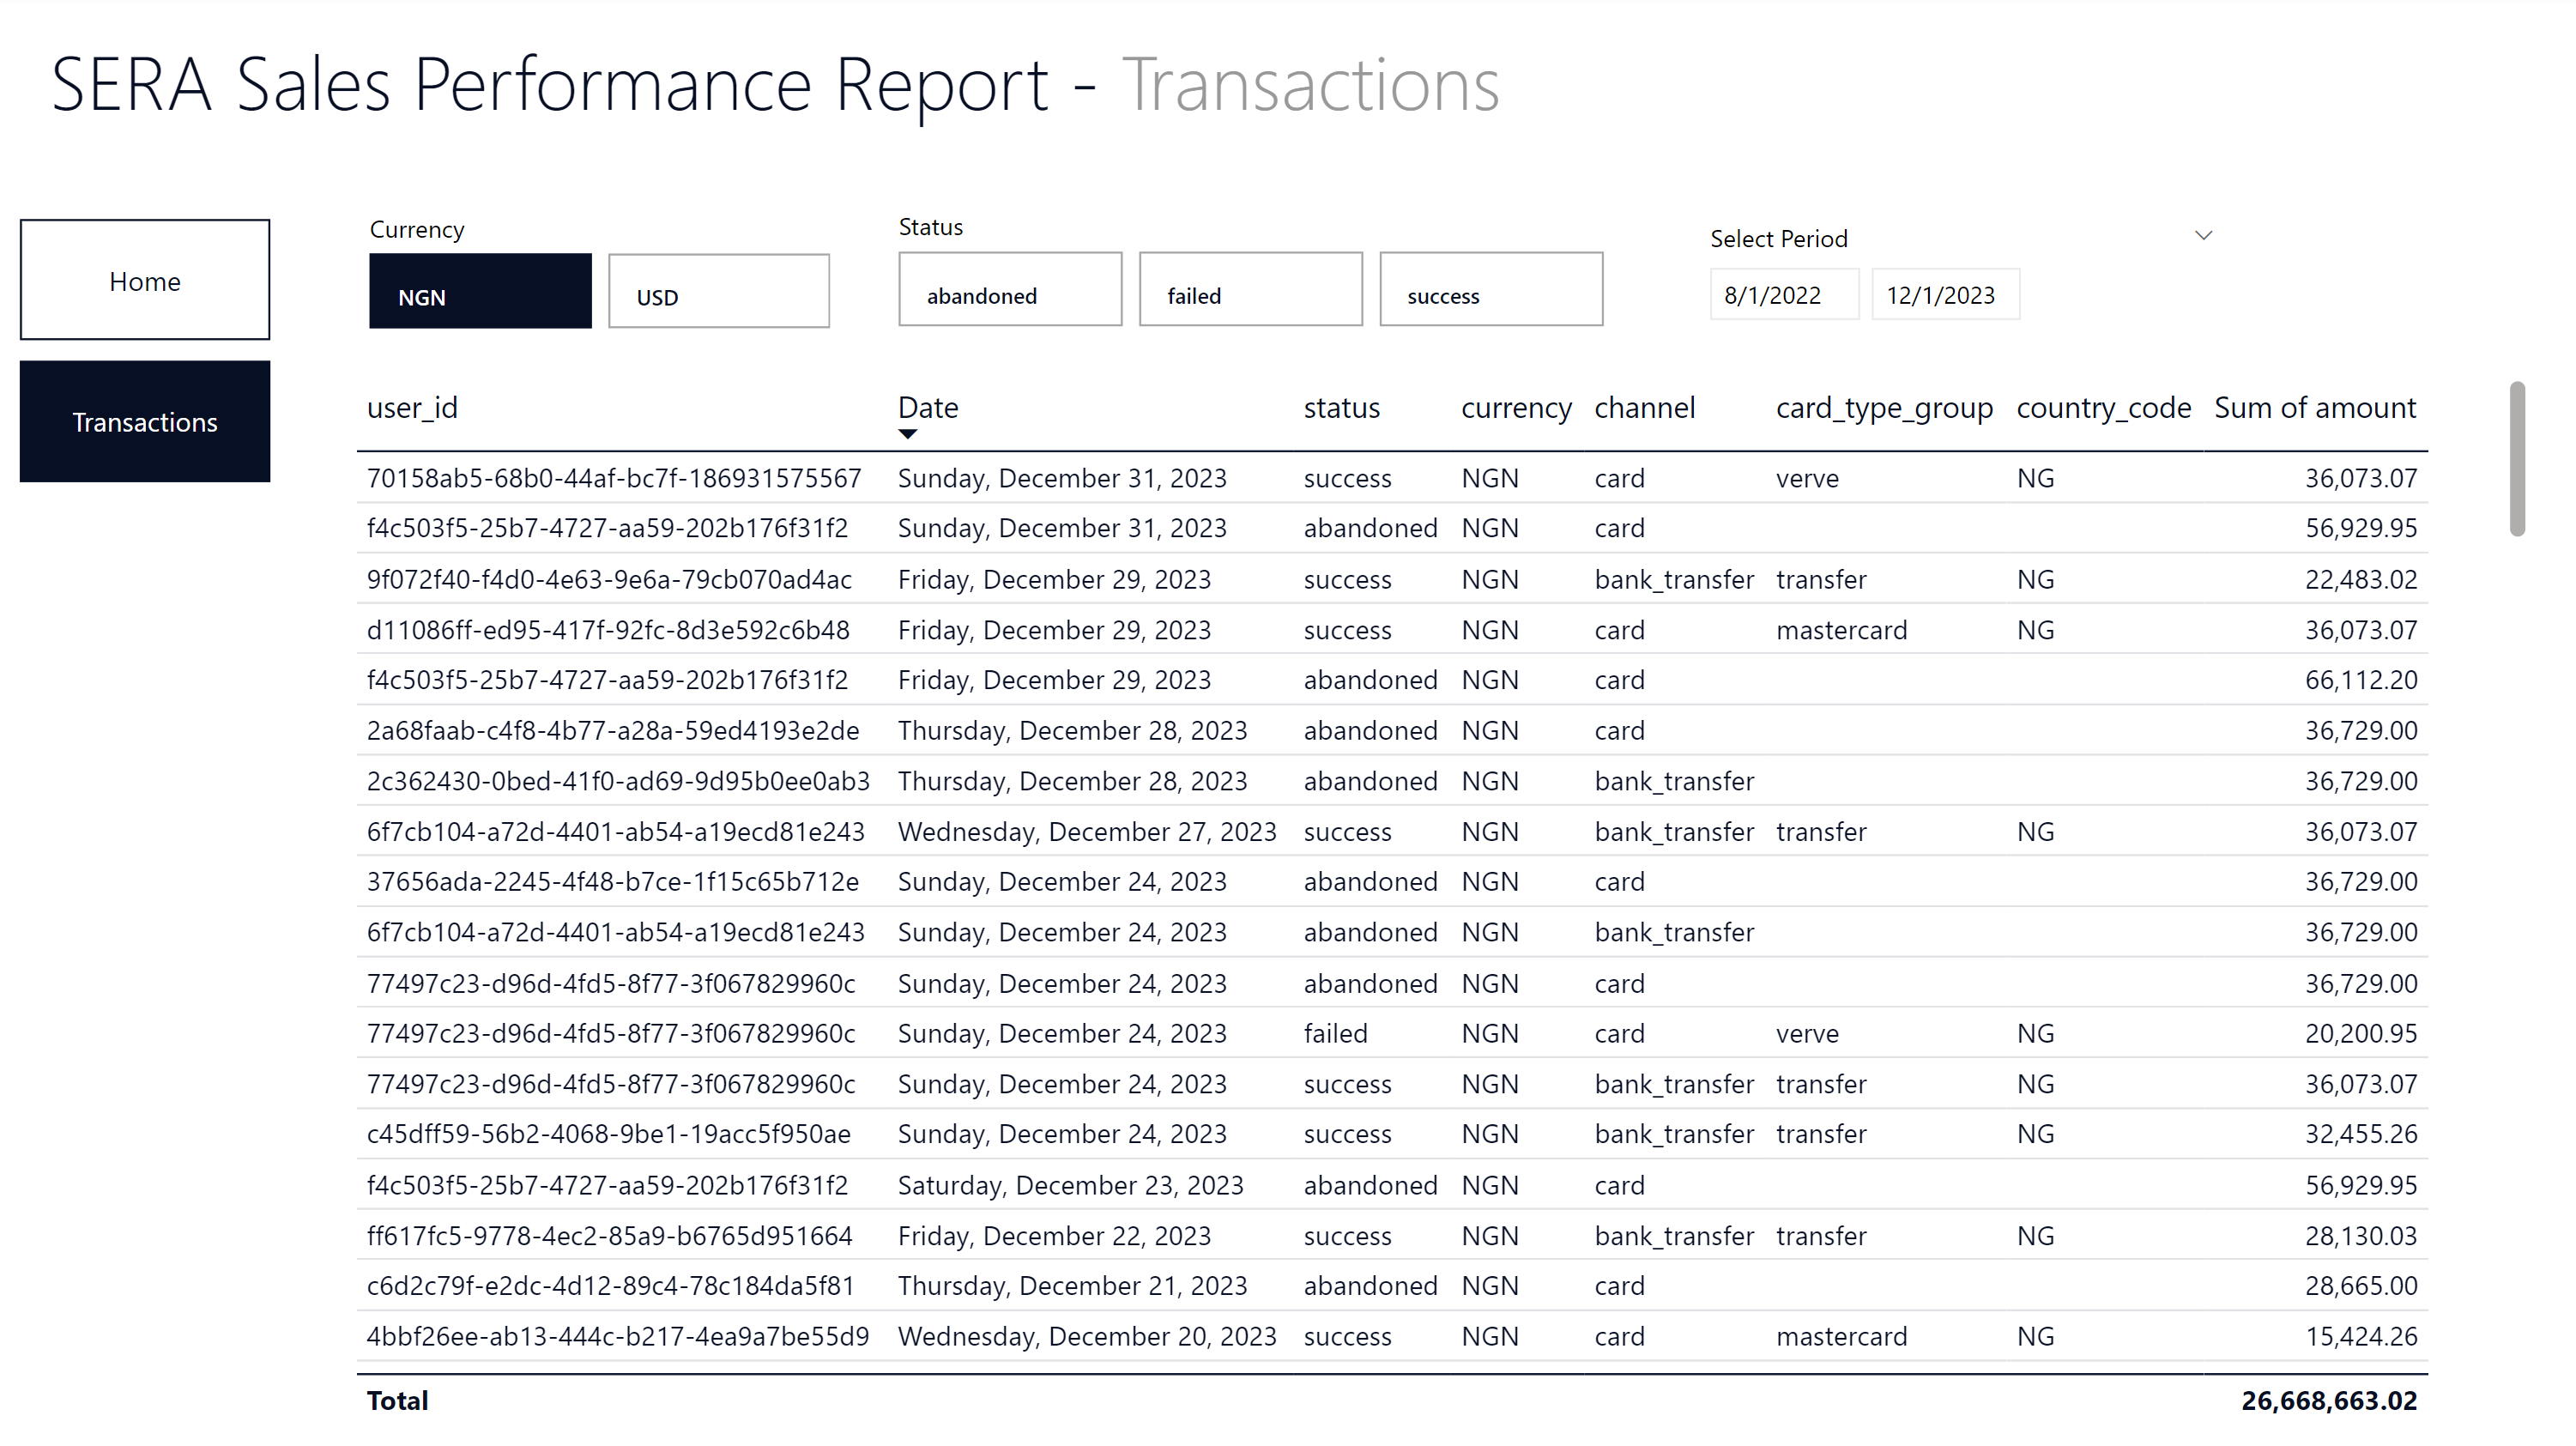

This screenshot's page, from the dashboard's own definition file:
{"tool":"powerbi","page":{"name":"Transactions","canvas":[1280,720],"ordinal":1},"visuals":[{"type":"tableEx","fields":{"Values":["sera sales.user_id","sera sales.Date","sera sales.status","sera sales.currency","sera sales.channel","sera sales.card_type_group","sera sales.country_code","Sum(sera sales.amount)"]},"box":[172.9,186.3,1085.8,526.8],"z":0},{"type":"advancedSlicerVisual","title":"Currency","fields":{"Values":["sera sales.currency"]},"box":[181,107.7,239.8,63.4],"z":1000},{"type":"slicer","fields":{"Values":["date table.MonthYear"]},"box":[836.3,107.7,274.8,62.4],"z":2000},{"type":"advancedSlicerVisual","title":"Status","fields":{"Values":["sera sales.status"]},"box":[442.7,106.7,360.4,63.4],"z":3000},{"type":"pageNavigator","box":[12.4,111.8,124.2,130.4],"z":4000},{"type":"textbox","box":[21.7,12.4,850.8,66.2],"z":5000}]}

Visuals, with their boxes in screenshot pixels (x1, y1, x2, y2), scaled from the page's 1280x720 canvas onto the 2576x1446 screenshot:
tableEx - sera sales.user_id x sera sales.Date: BBox(348, 374, 2533, 1432)
"Currency" advancedSlicerVisual: BBox(365, 216, 847, 343)
slicer - date table.MonthYear: BBox(1683, 216, 2236, 342)
"Status" advancedSlicerVisual: BBox(891, 215, 1617, 342)
pageNavigator: BBox(25, 225, 275, 487)
textbox: BBox(44, 25, 1756, 158)
